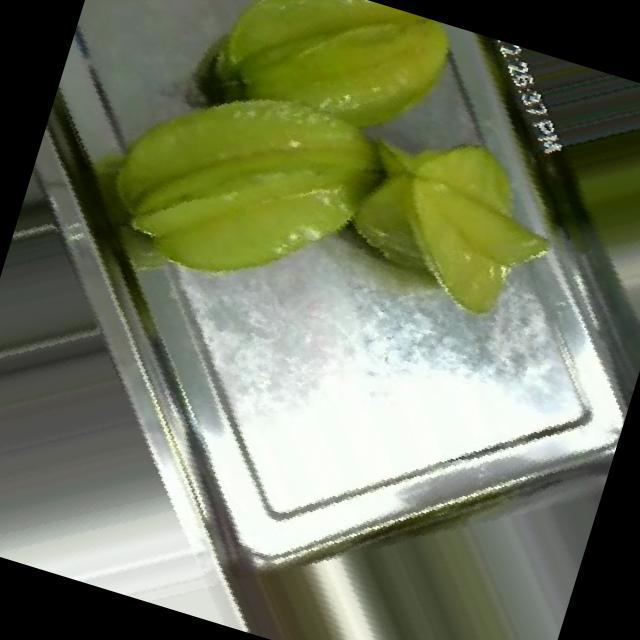fruit: (43, 0, 468, 384), (281, 68, 623, 384), (286, 412, 603, 640), (480, 59, 640, 371)
